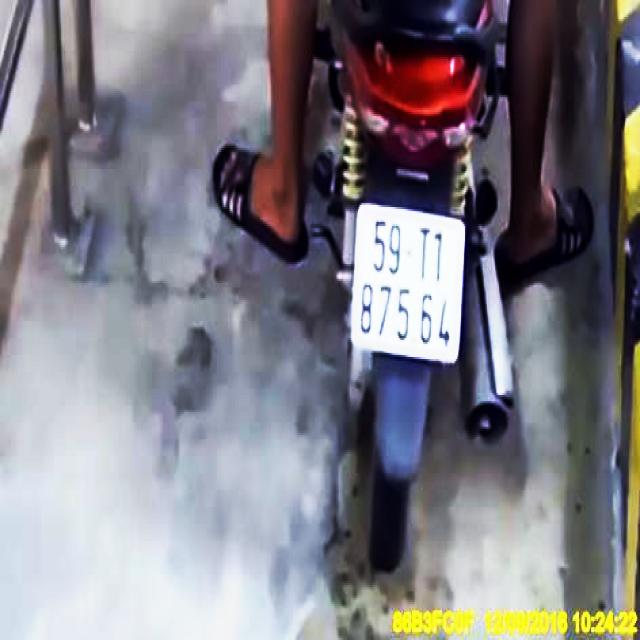license_plate: (357, 202, 465, 363)
